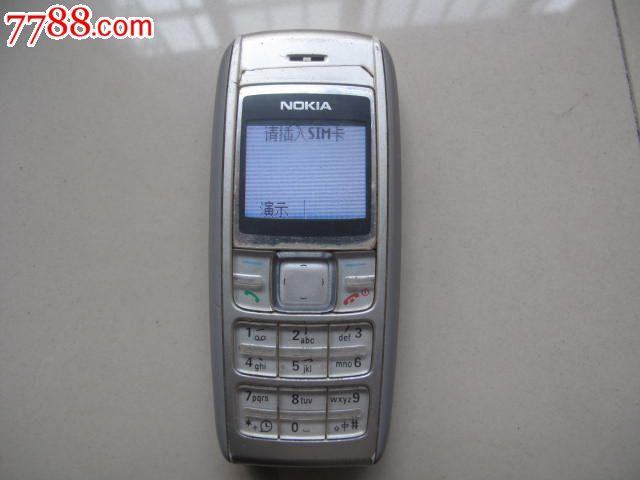phone: (208, 34, 394, 463)
